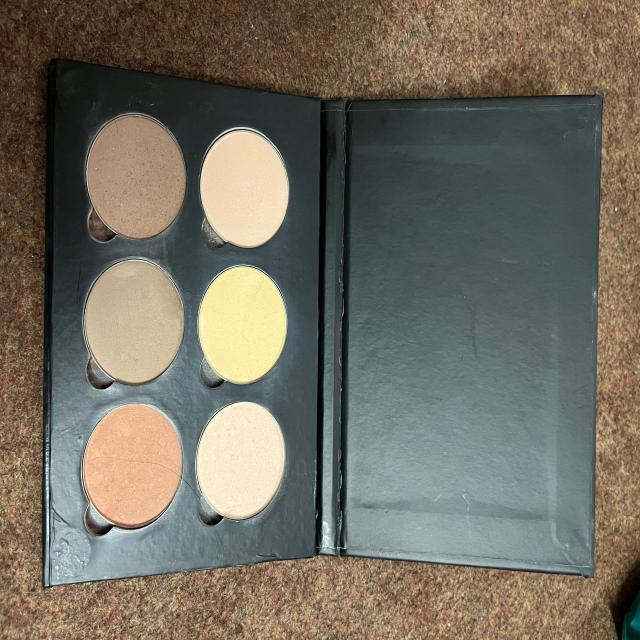bronzer: (76, 242, 190, 390), (75, 392, 189, 534), (83, 105, 189, 244)
eye shade: (194, 258, 290, 395)
powder: (195, 120, 296, 256), (192, 395, 290, 533)
